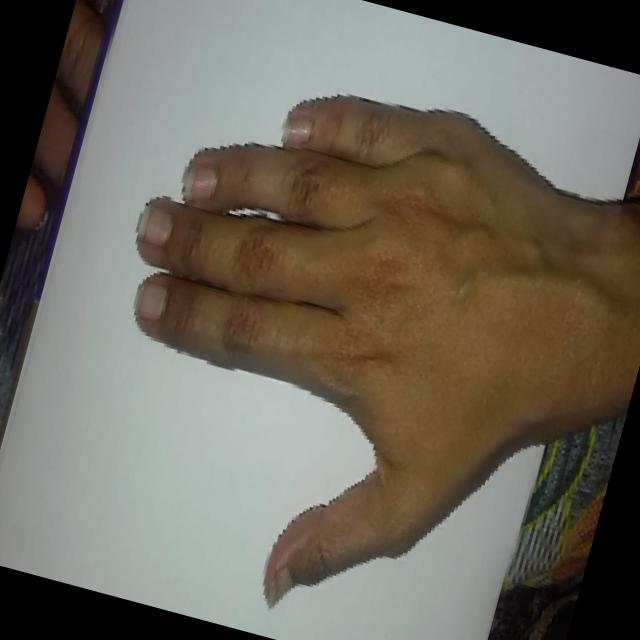Nail: (135, 204, 171, 245), (182, 163, 217, 200), (133, 281, 165, 320), (279, 114, 312, 147), (266, 568, 292, 608)
